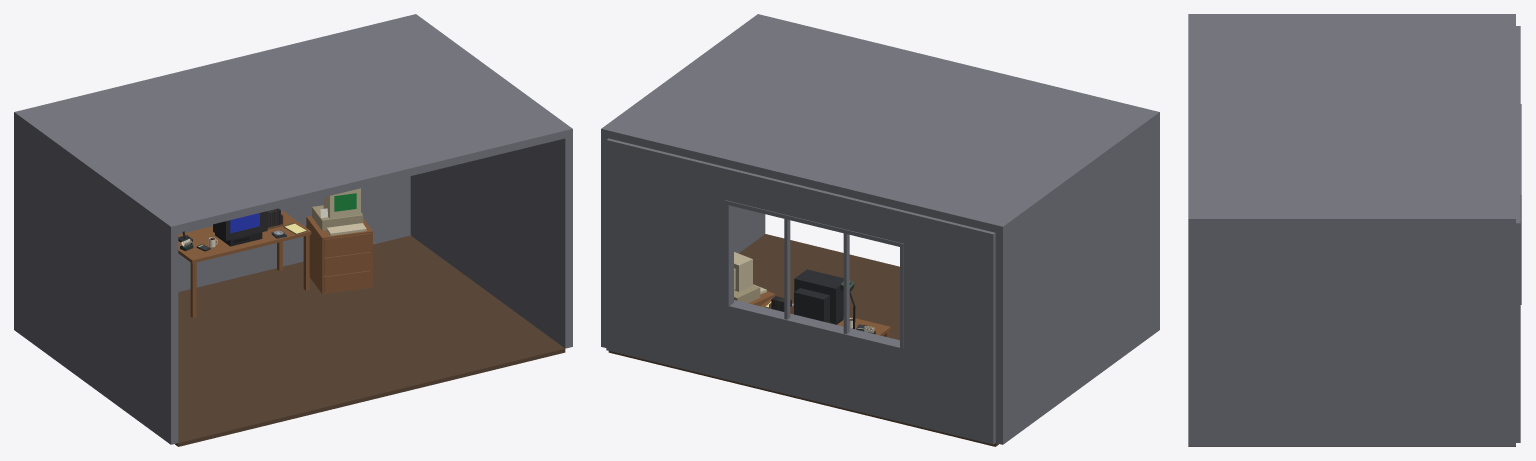
File: room.glb
The picture shows the model from 3 angles, left to right: view 1: azimuth 30°, elevation 25°; view 2: azimuth 150°, elevation 25°; view 3: azimuth 270°, elevation 25°; orthographic projection. The views are drawn at different scales.
Visible parts, largest first — view 1: static_room, static_floor, static_desk, tv_body, pc_body, pc_monitor; view 2: static_room, static_floor, tv_body, pc_monitor, static_desk; view 3: static_room.
Boxes of the visible parts, x1,y1,x2,y2 form: static_room: (14, 14, 572, 444); static_floor: (175, 235, 565, 446); static_desk: (178, 209, 372, 317); tv_body: (213, 211, 267, 240); pc_body: (312, 205, 363, 230); pc_monitor: (323, 188, 360, 218); static_room: (601, 14, 1159, 444); static_floor: (608, 234, 998, 446); tv_body: (794, 269, 843, 322); pc_monitor: (734, 252, 752, 291); static_desk: (749, 291, 890, 337); static_room: (1188, 14, 1521, 446).
Bounding box in the file's own units: 5.4 × 2.85 × 3.71.
